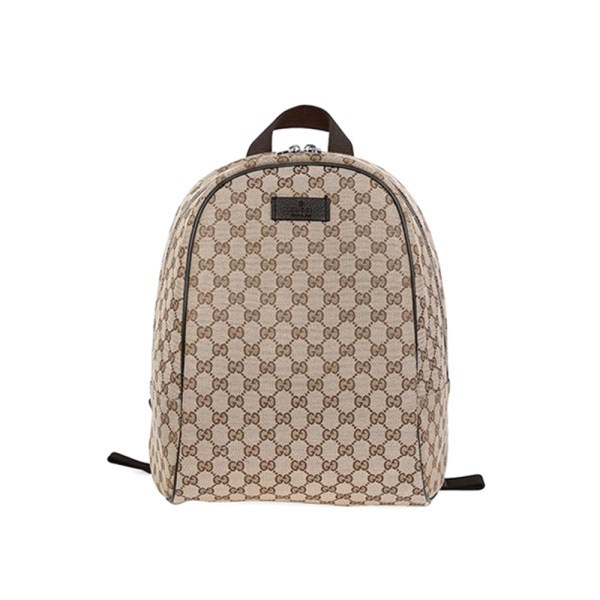Gucci: (116, 122, 474, 516), (219, 240, 368, 438)
